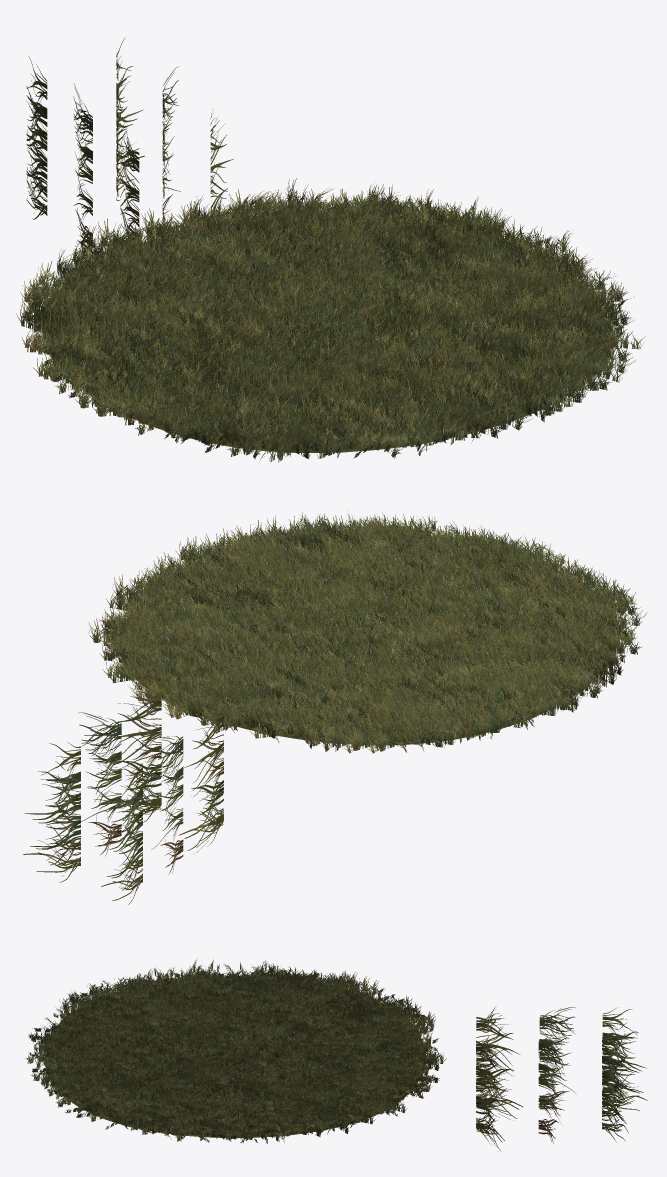
File: realtime_grass.glb
3 renders of one model, top to bottom at view 1: azimuth 30°, elevation 25°; view 2: azimuth 150°, elevation 25°; view 3: azimuth 270°, elevation 25°, orthographic. The views are drawn at different scales.
Visible parts, largest first — view 1: Plane, Plate3.003, Plate2.003, Plate1.003, Plate3.002, Plate2.002; view 2: Plate3.002, Plate1.002, Plate2.002, Plate1.003, Plate3.003, Plate2.003, Plane; view 3: Plane, Plate1.003, Plate3.003, Plate3.002, Plate2.003, Plate1.002, Plate2.002.
Boxes of the visible parts, box(x1,y1,x2,y2) form: Plane: box(42, 214, 609, 452); Plate3.003: box(26, 56, 47, 219); Plate2.003: box(73, 84, 92, 252); Plate1.003: box(120, 131, 139, 243); Plate3.002: box(116, 38, 144, 200); Plate2.002: box(162, 66, 180, 225); Plate3.002: box(23, 742, 80, 882); Plate1.002: box(102, 682, 161, 825); Plate2.002: box(78, 712, 121, 855); Plate1.003: box(179, 703, 223, 853); Plate3.003: box(101, 762, 142, 904); Plate2.003: box(151, 736, 183, 874); Plane: box(119, 538, 616, 745); Plane: box(45, 977, 423, 1137); Plate1.003: box(476, 1006, 523, 1119); Plate3.003: box(602, 1007, 647, 1116); Plate3.002: box(602, 1033, 628, 1142); Plate2.003: box(539, 1007, 575, 1116); Plate1.002: box(476, 1035, 504, 1151); Plate2.002: box(538, 1036, 561, 1143).
Size of the model in its own units: 16.04 by 4.97 by 23.5.
4 materials, 4 textured.
